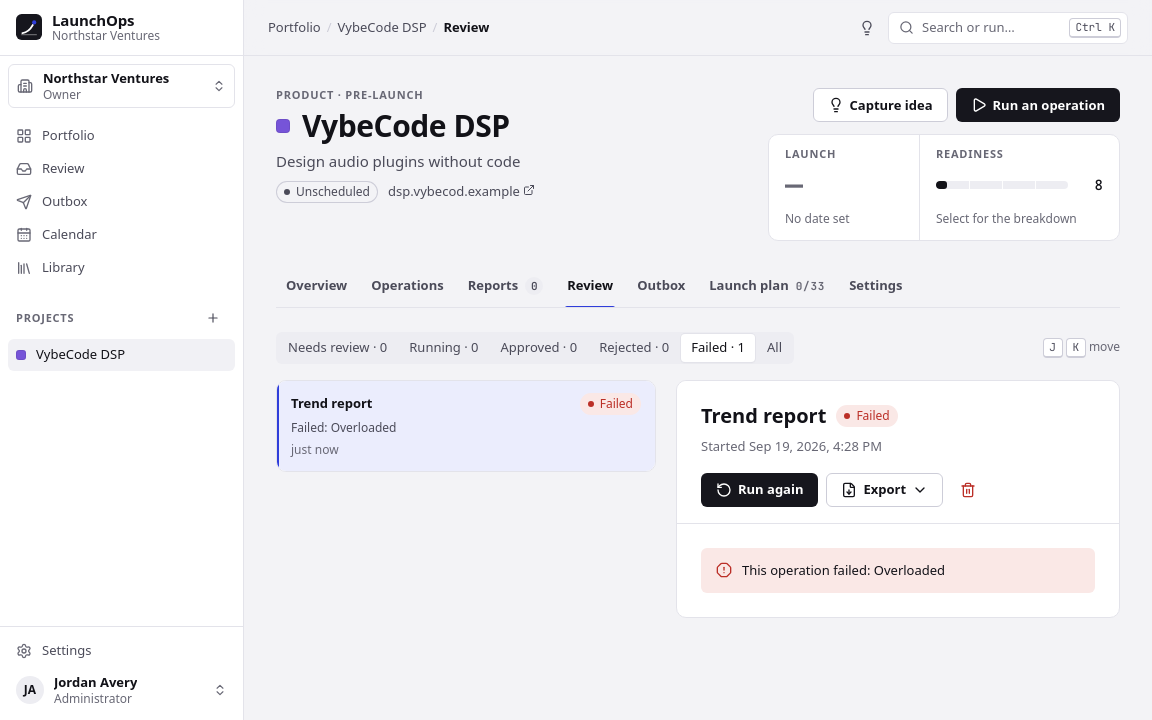
Test: When the AI budget is used up › says why a failed operation didn't run again
Click the button "Run again": (760, 490) [701,473,818,507]
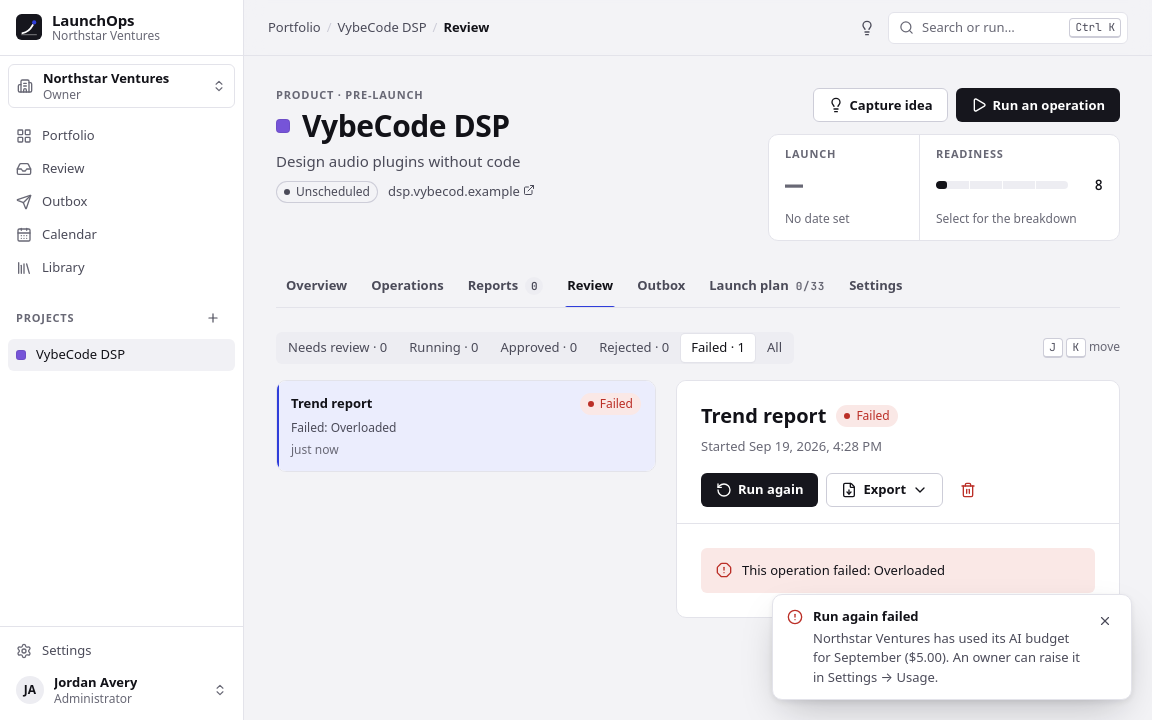
expect the text "Run again failed" is shown: met, box [813,607,919,625]
